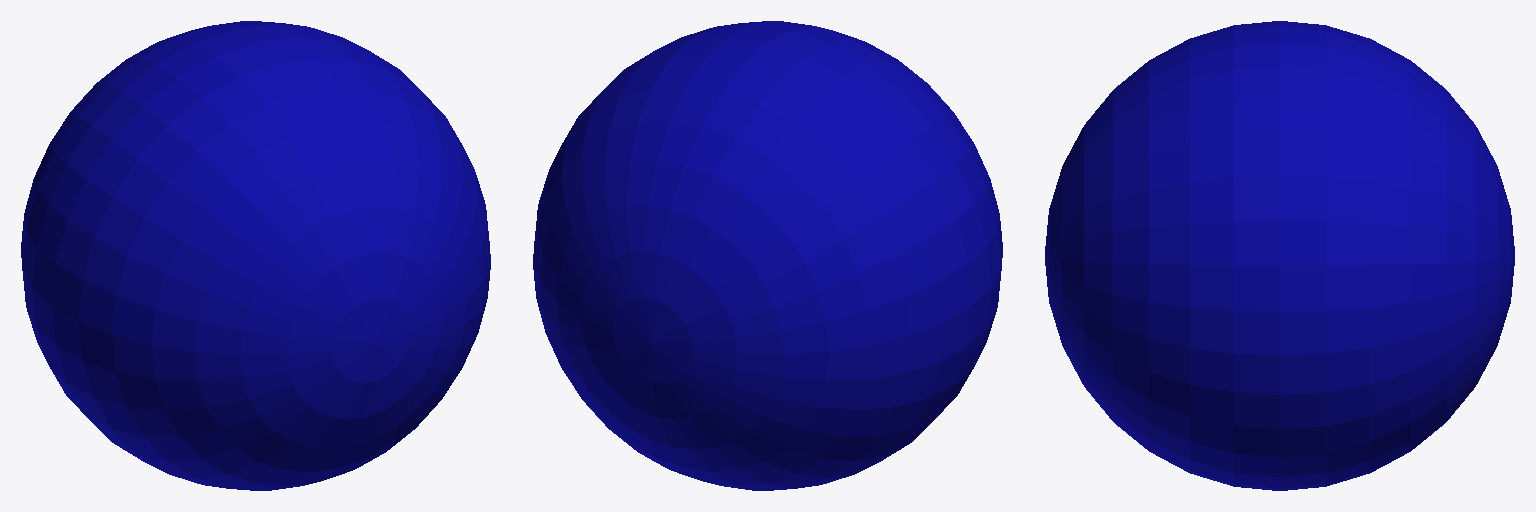
robot.urdf — sphere:
<?xml version="1.0" encoding="utf-8"?>
<!-- =================================================================================== -->
<!-- |    This document was autogenerated by xacro from sphere.urdf.xacro              | -->
<!-- |    EDITING THIS FILE BY HAND IS NOT RECOMMENDED                                 | -->
<!-- =================================================================================== -->
<robot name="sphere">
  <!-- Base link -->
  <link name="obj_base">
    <origin xyz="0 0 0"/>
  </link>
  <joint name="base_joint" type="revolute">
    <limit effort="15" lower="-0.47" upper="0.47" velocity="7"/>
    <parent link="obj_base"/>
    <child link="object_link"/>
    <origin xyz="0 0 0"/>
  </joint>
  <!-- object link -->
  <link name="object_link">
    <visual>
      <geometry>
        <sphere radius="0.05"/>
      </geometry>
      <origin rpy="1.5707963268 0 0" xyz="0.105 -0.03 0.11"/>
      <material name="blue">
        <color rgba="0.1 0.1 0.7 0.7"/>
      </material>
    </visual>
    <collision>
      <geometry>
        <sphere radius="0.05"/>
      </geometry>
    </collision>
  </link>
</robot>

--- Render facts (derived) ---
Views: 3 orthographic renders of the robot side by side, from view 1: azimuth 30°, elevation 25°; view 2: azimuth 150°, elevation 25°; view 3: azimuth 270°, elevation 25°.
Model sphere with 2 links and 1 joints (1 revolute), rooted at obj_base, posed all joints at 0.
Visible links, largest first — view 1: object_link; view 2: object_link; view 3: object_link.
Boxes of the visible links, x1=… form: object_link: x1=21, y1=21, x2=490, y2=490; object_link: x1=533, y1=21, x2=1002, y2=490; object_link: x1=1045, y1=21, x2=1514, y2=490.
Size in the robot's own frame: 0.1 by 0.1 by 0.1 metres.
Geometry: primitives only (box / cylinder / sphere), no mesh files.